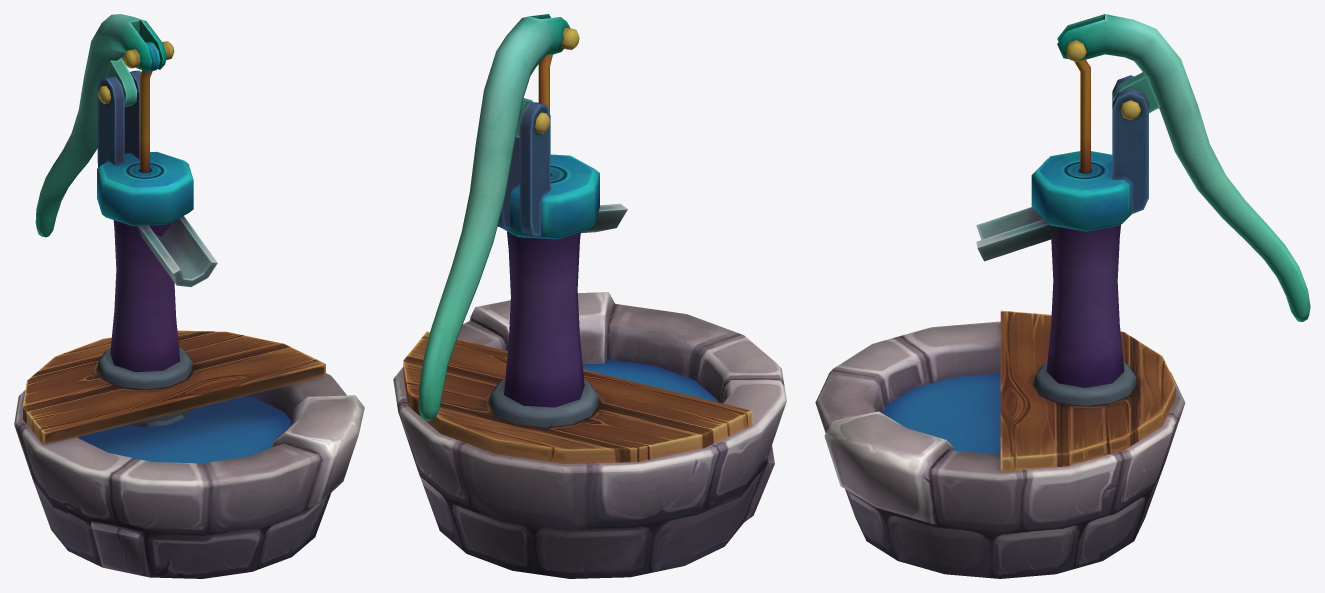
Rendered from SE_Pump_01.fbx.
3 views of the same model, side by side, from view 1: azimuth 30°, elevation 25°; view 2: azimuth 150°, elevation 25°; view 3: azimuth 270°, elevation 25° (orthographic). The views are drawn at different scales.
Parts seen in each view (by area): view 1: SE_Pump_01; view 2: SE_Pump_01; view 3: SE_Pump_01.
Boxes of the visible parts, bbox=[...] form: SE_Pump_01: bbox=[14, 14, 364, 578]; SE_Pump_01: bbox=[393, 14, 786, 578]; SE_Pump_01: bbox=[815, 14, 1310, 578].
Bounding box in the file's own units: 4.05 × 6.05 × 5.42.
